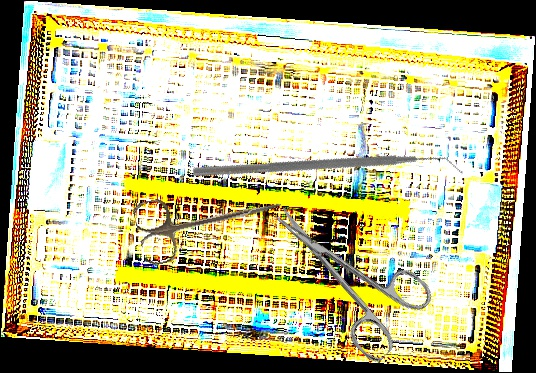Chopper: (189, 42, 466, 303)
Iris Scissors: (249, 176, 441, 366), (131, 170, 288, 268)
